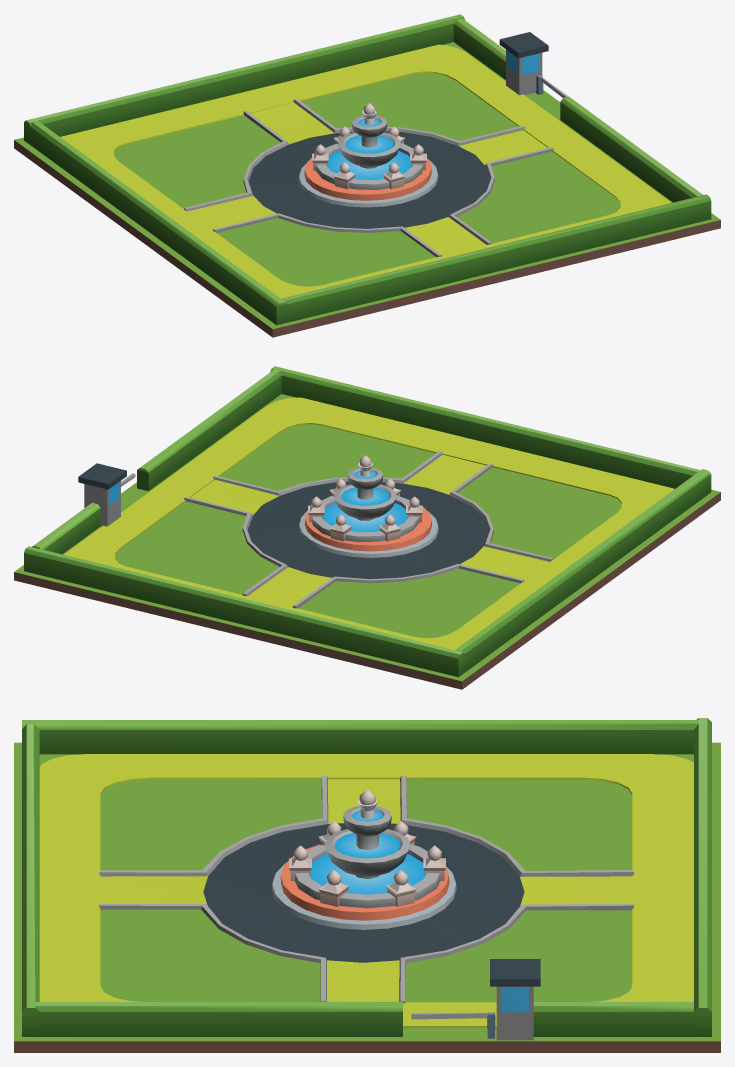
File: Garden.fbx
3 renders of one model, top to bottom at view 1: azimuth 30°, elevation 25°; view 2: azimuth 150°, elevation 25°; view 3: azimuth 270°, elevation 25°, orthographic. The views are drawn at different scales.
Parts seen in each view (by area): view 1: Garden; view 2: Garden; view 3: Garden.
Part boxes in pixels (x1,y1,x2,y2): Garden: [14, 14, 720, 337]; Garden: [14, 366, 720, 689]; Garden: [14, 718, 720, 1052].
Size of the model in its own units: 8.03 by 1.45 by 8.
